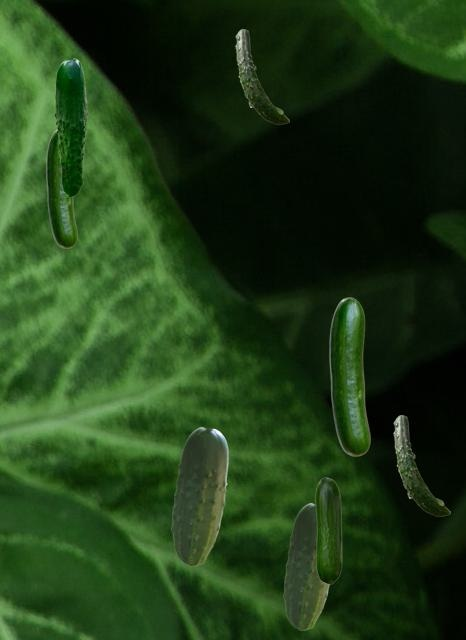cucumber: (171, 427, 227, 565), (329, 297, 369, 455), (283, 503, 330, 629), (393, 415, 449, 515), (235, 29, 288, 123), (54, 58, 87, 196), (46, 129, 76, 247), (315, 477, 341, 583)
